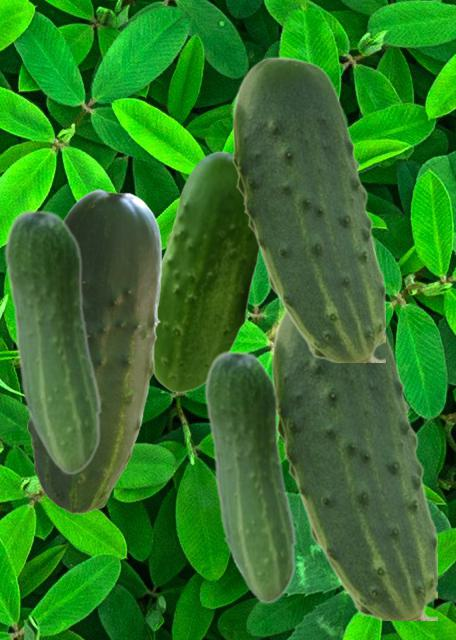cucumber: (271, 310, 436, 619), (232, 56, 384, 361), (27, 189, 161, 513), (4, 208, 101, 474), (153, 151, 259, 392), (204, 349, 296, 603)
